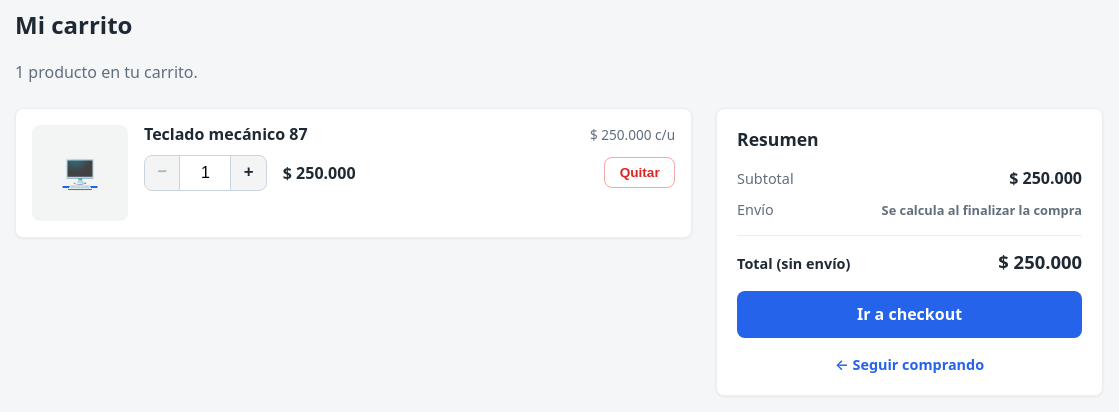
Test: CartPage (ítem de carrito) › muestra el error textual del backend si el cambio de cantidad se rechaza
The image size is (1119, 412).
Click the button named "Aumentar cantidad": (249, 173) [231,156,266,190]
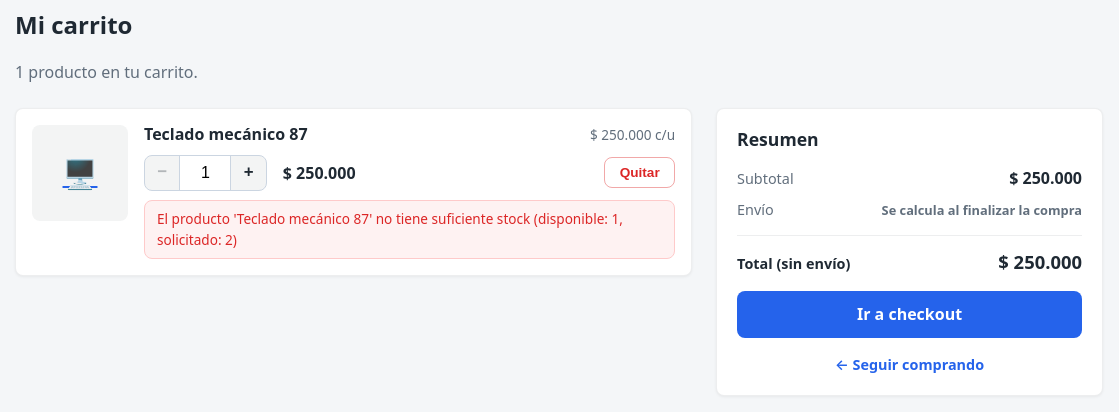
Result: the message shows "El producto 'Teclado mecánico 87' no tiene suficiente stock (disponible: 1, solicitado: 2)" at [157,209,623,249]
